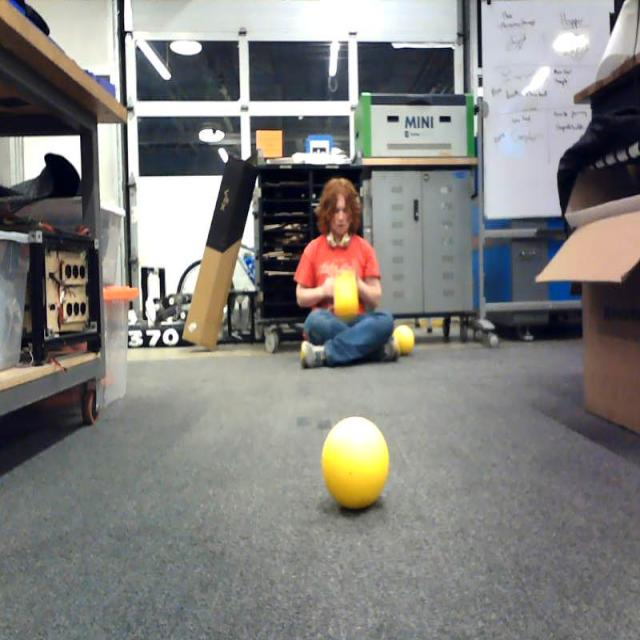Fuel: (322, 416, 388, 509), (334, 276, 358, 310), (393, 326, 414, 355)
